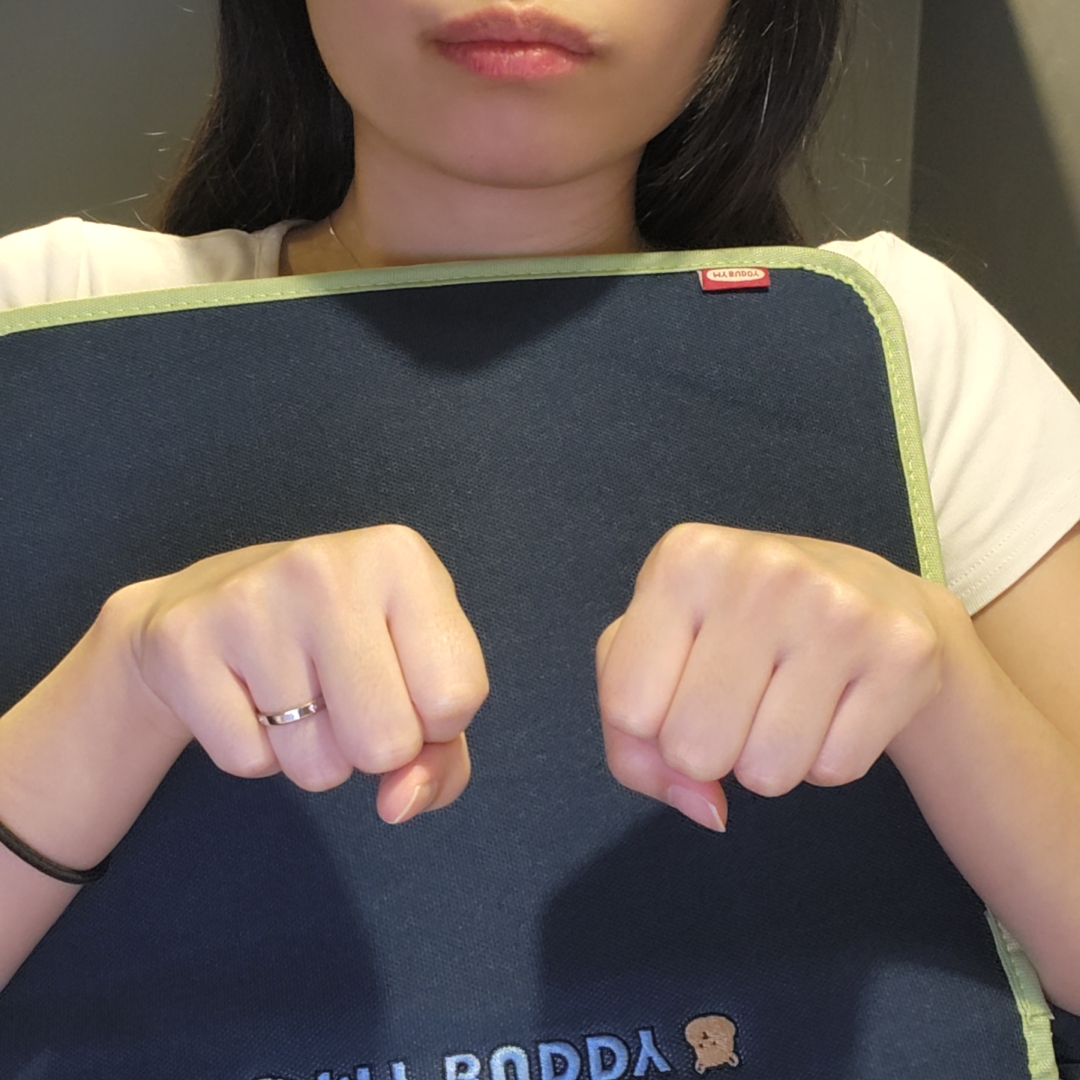hello: (145, 521, 941, 838)
